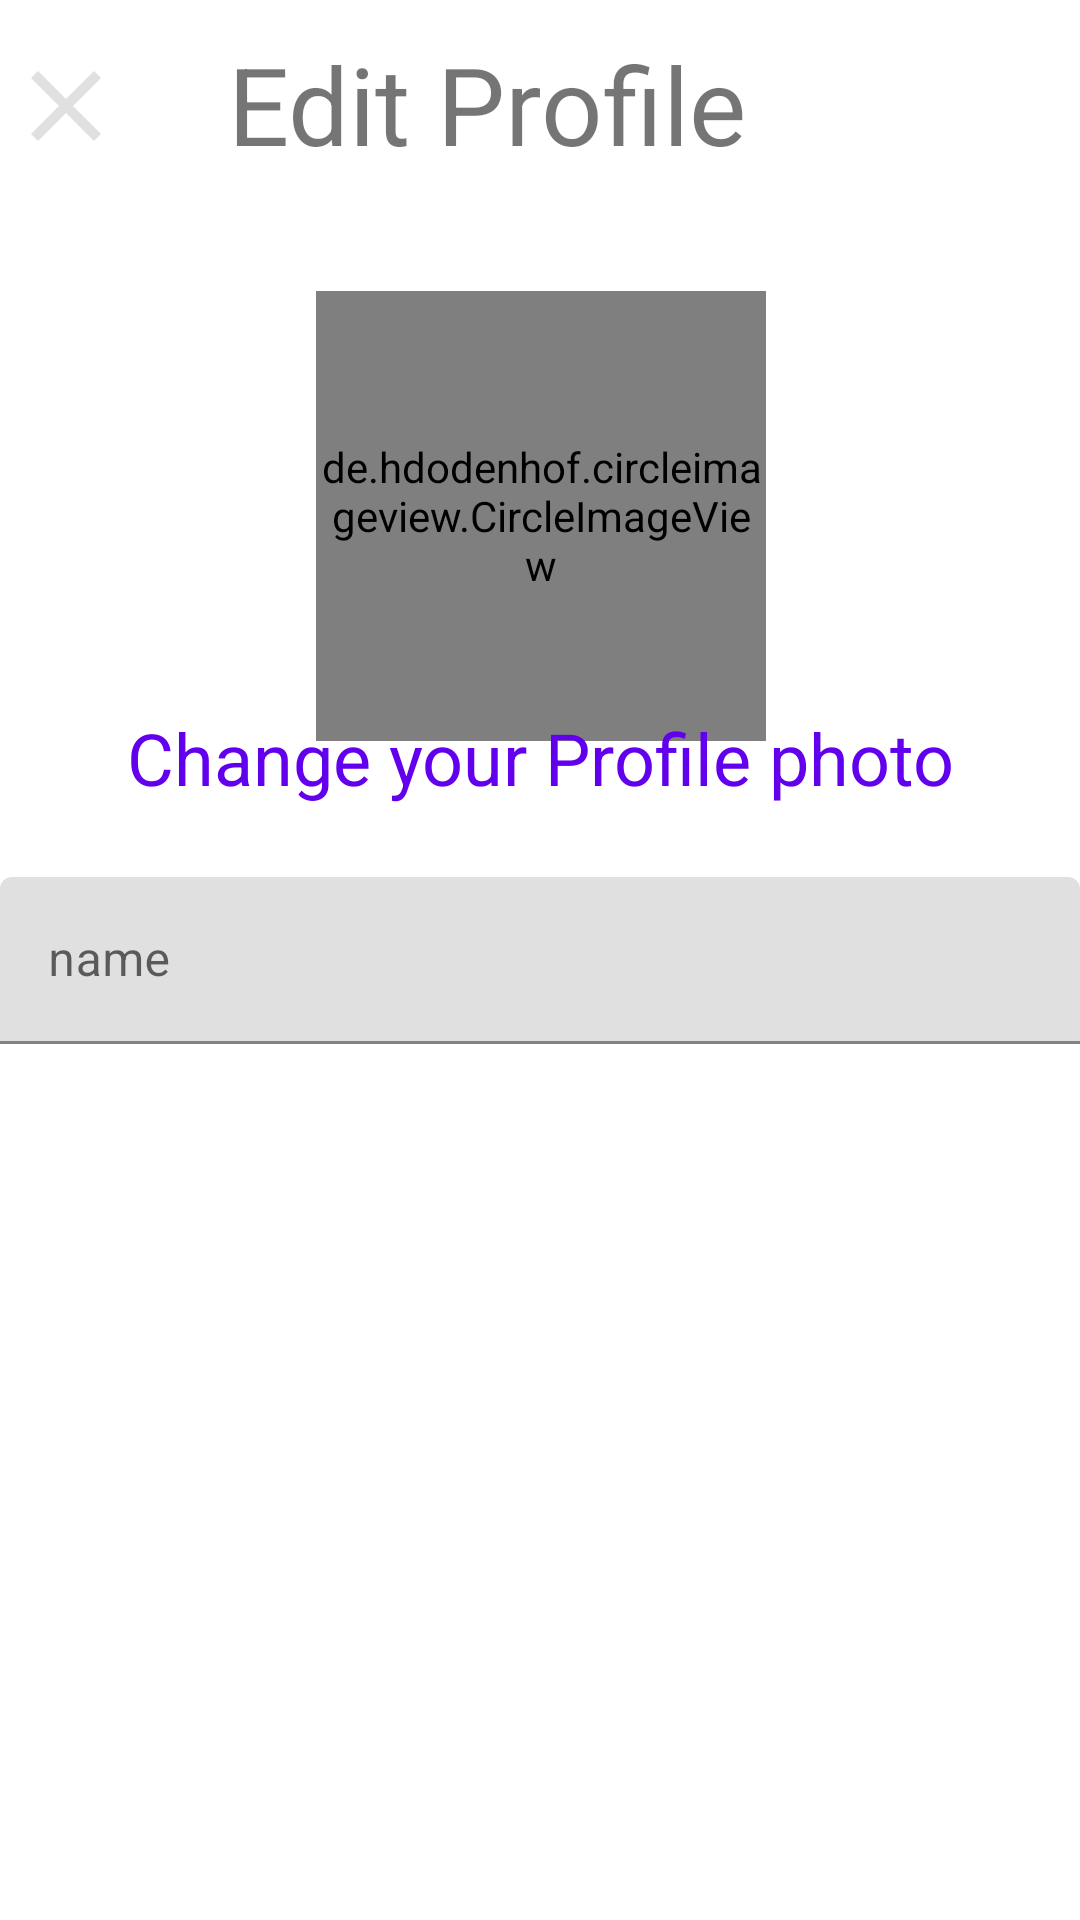

Point at icon controls on the screen. Image size 1080*1920, points as (x=x, y=y).
close: (x=66, y=106)
